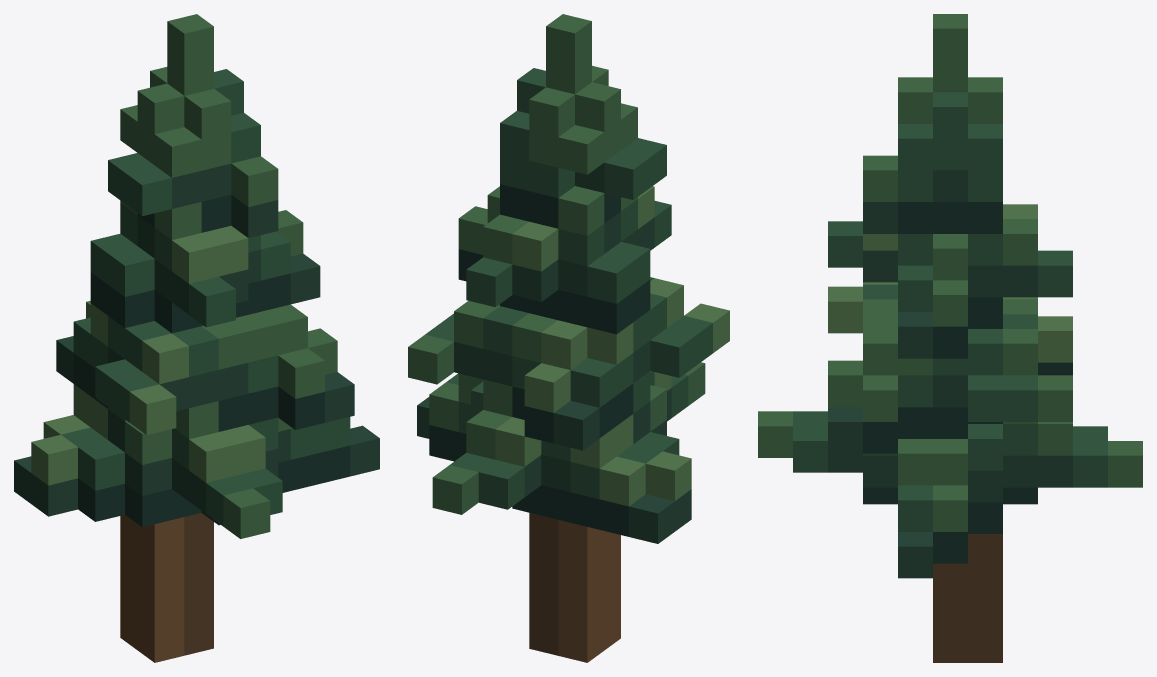
The model's file is pine_mature.glb.
3 views of the same model, side by side, from view 1: azimuth 30°, elevation 25°; view 2: azimuth 150°, elevation 25°; view 3: azimuth 270°, elevation 25° (orthographic). The views are drawn at different scales.
Parts seen in each view (by area): view 1: pine_mature; view 2: pine_mature; view 3: pine_mature.
Boxes of the visible parts, <box> form: pine_mature: <box>14,14,379,662</box>; pine_mature: <box>408,14,729,662</box>; pine_mature: <box>758,14,1142,662</box>.
Bounding box in the file's own units: 10 × 20 × 11.
